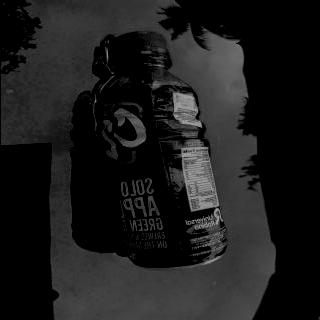bottle: (85, 28, 233, 274)
